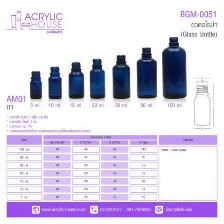bottle: (159, 33, 187, 100), (134, 43, 158, 100), (109, 52, 131, 99), (190, 90, 213, 128), (67, 61, 86, 100), (89, 56, 105, 99), (47, 62, 63, 101), (27, 67, 44, 101)
